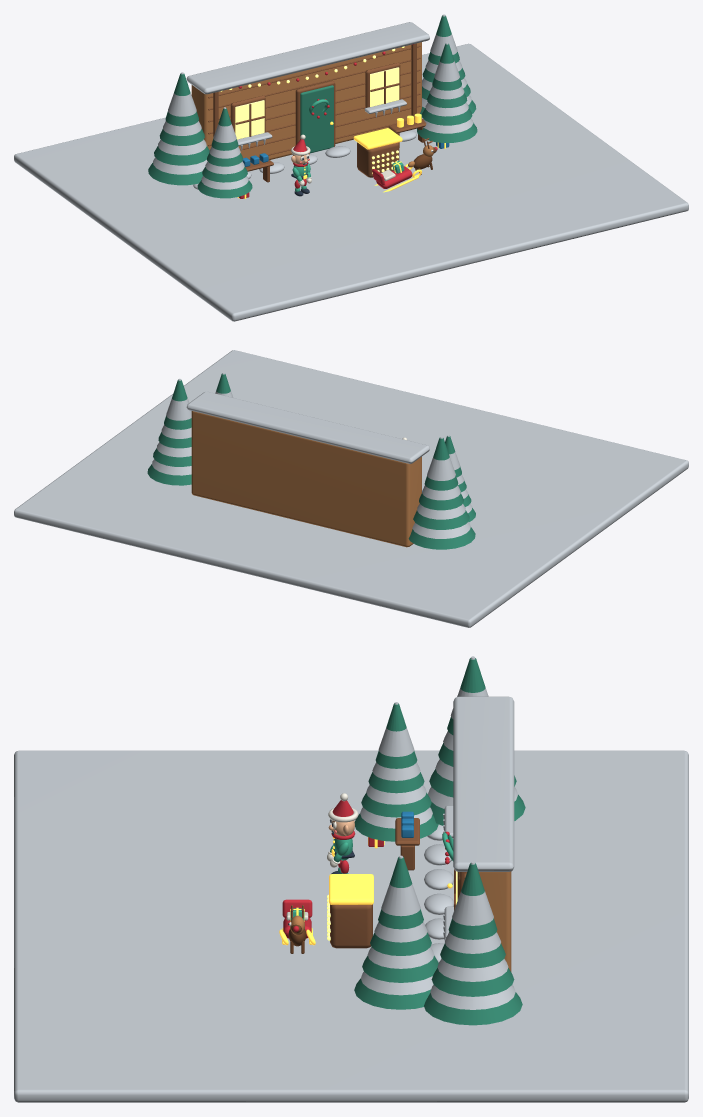
File: chapter-24.glb
The picture shows the model from 3 angles, top to bottom: view 1: azimuth 30°, elevation 25°; view 2: azimuth 150°, elevation 25°; view 3: azimuth 270°, elevation 25°; orthographic projection. The views are drawn at different scales.
Parts seen in each view (by area): view 1: Schneeboden, Werkstatt, Schneegesims, Wichteltür, Weihnachtsmaschine, Warmes Fenster, Warmes Fenster.001, Deckel, Tannenzweig.008, Tannenzweig.009, Türrahmen, Tannenzweig.004 (+8 smaller); view 2: Schneeboden, Werkstatt, Schneegesims, Tannenzweig.008, Tannenzweig.009, Tannenzweig.011, Schnee.008, Schnee.011, Tannenzweig.015, Tannenzweig.012, Tannenzweig.010, Schnee.009 (+1 smaller); view 3: Schneeboden, Schneegesims, Weihnachtsmaschine, Werkstatt, Tannenzweig.012, Deckel, Tannenzweig.013, Tannenzweig.015, Schnee.012, Tannenzweig.005, Tannenzweig.004, Schnee.015 (+16 smaller).
Boxes of the visible parts, box(x1,y1,x2,y2) form: Schneeboden: box(14, 43, 688, 321); Werkstatt: box(191, 42, 421, 160); Schneegesims: box(186, 22, 429, 94); Wichteltür: box(300, 85, 333, 153); Weihnachtsmaschine: box(357, 142, 399, 177); Warmes Fenster: box(235, 100, 264, 139); Warmes Fenster.001: box(370, 67, 399, 106); Deckel: box(353, 128, 402, 149); Tannenzweig.008: box(148, 163, 202, 185); Tannenzweig.009: box(154, 146, 209, 165); Türrahmen: box(295, 81, 335, 146); Tannenzweig.004: box(417, 122, 477, 142); Schneeboden: box(14, 350, 688, 627); Werkstatt: box(191, 411, 421, 547); Schneegesims: box(186, 391, 429, 463); Tannenzweig.008: box(408, 527, 475, 549); Tannenzweig.009: box(413, 510, 469, 529); Tannenzweig.011: box(424, 437, 458, 490); Schnee.008: box(412, 522, 470, 538); Schnee.011: box(427, 436, 455, 480); Tannenzweig.015: box(164, 380, 191, 429); Tannenzweig.012: box(147, 464, 191, 485); Tannenzweig.010: box(419, 493, 463, 510); Schnee.009: box(417, 504, 465, 519); Schneeboden: box(14, 750, 688, 1102); Schneegesims: box(453, 696, 514, 871); Weihnachtsmaschine: box(330, 904, 372, 948); Werkstatt: box(466, 871, 511, 971); Tannenzweig.012: box(424, 992, 522, 1025); Deckel: box(329, 874, 373, 904); Tannenzweig.013: box(431, 968, 514, 996); Tannenzweig.015: box(448, 863, 497, 939); Schnee.012: box(430, 985, 515, 1009); Tannenzweig.005: box(362, 955, 438, 982); Tannenzweig.004: box(354, 978, 430, 1009); Schnee.015: box(452, 861, 493, 925).
Bounding box in the file's own units: 18 × 4.39 × 15.
